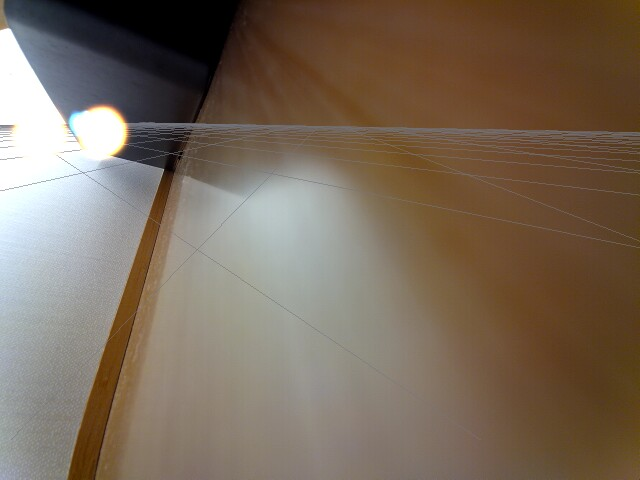firebig: (77, 105, 131, 160)
